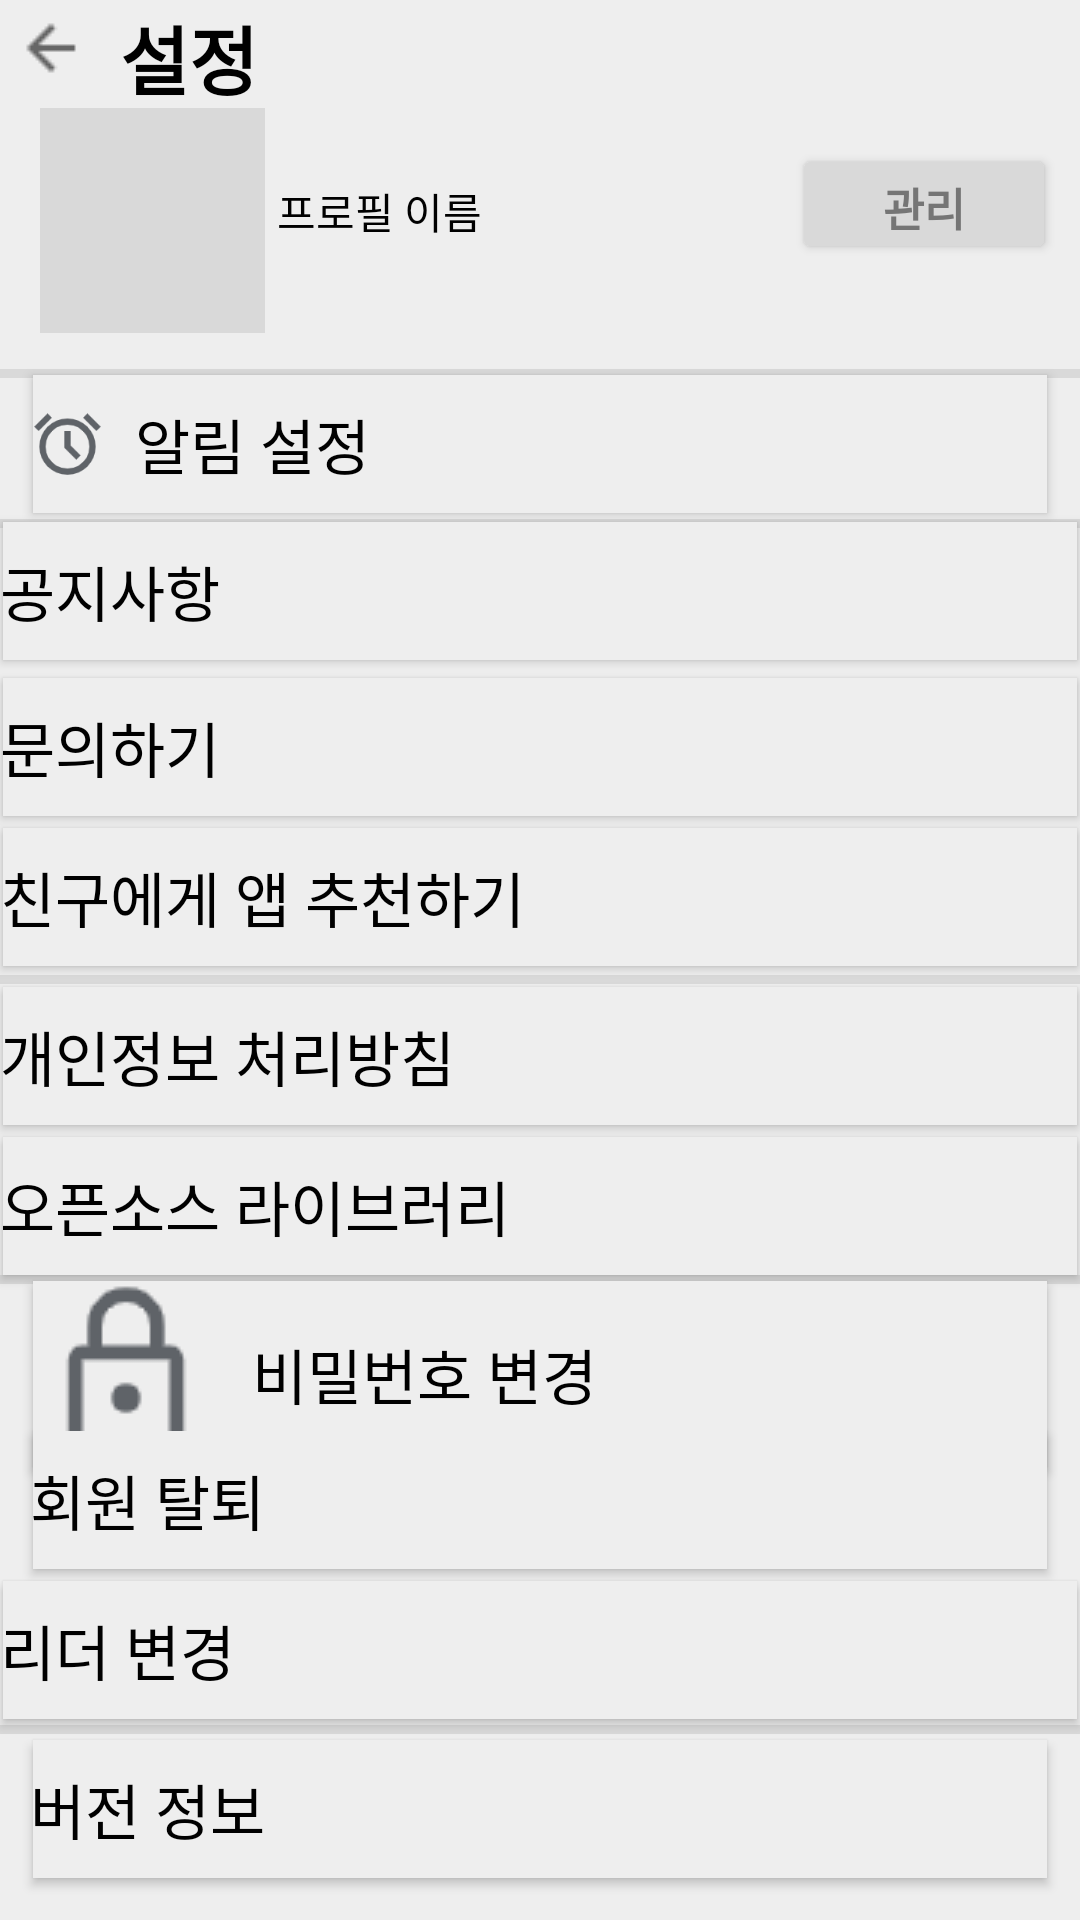

Where icons sit on this 1080×1920 app screen, as (x1, y1, x2, y2):
arrow back: (27, 24, 76, 72)
